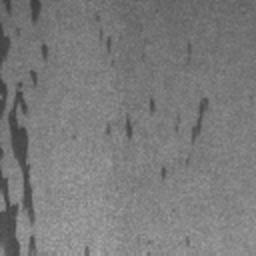Red iron sheet: (0, 0, 41, 256), (191, 96, 211, 145), (105, 116, 133, 138), (41, 42, 49, 61), (187, 40, 192, 63), (106, 36, 113, 52), (150, 99, 156, 114), (83, 247, 91, 256), (161, 168, 166, 178)
